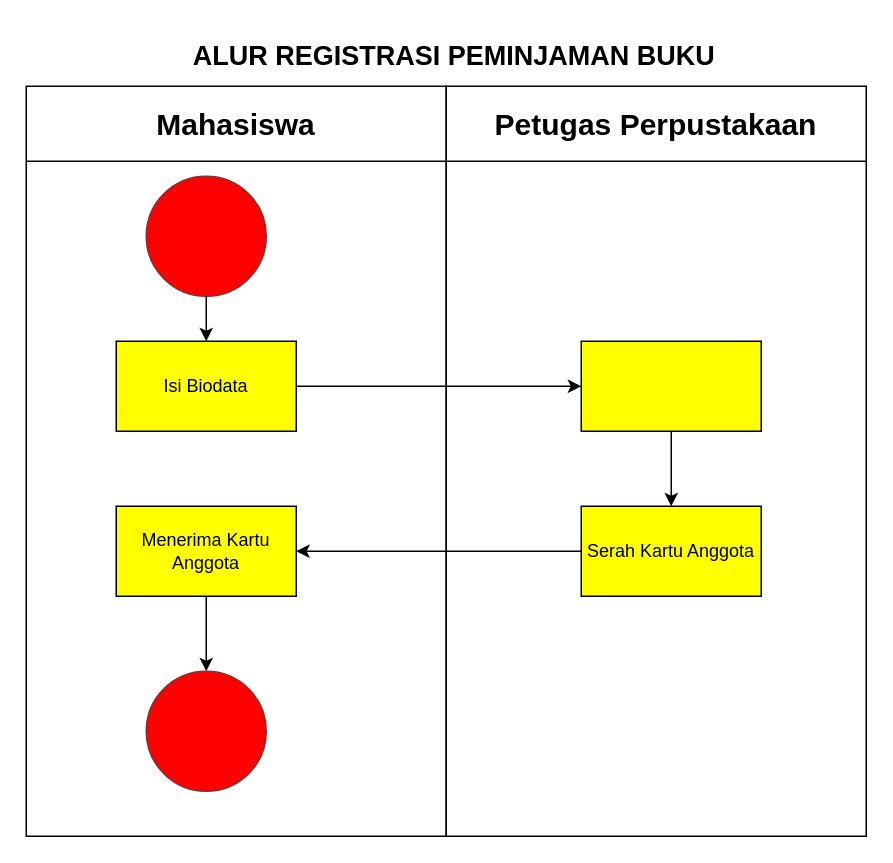
Image size: 893x863. Some labels were removed from this diagram. Each missing label, with the centre of its shape:
"Biodata Diterima" belongs at pixel 670 385.
"MULAI" belongs at pixel 205 235.
"STOP" belongs at pixel 205 730.
